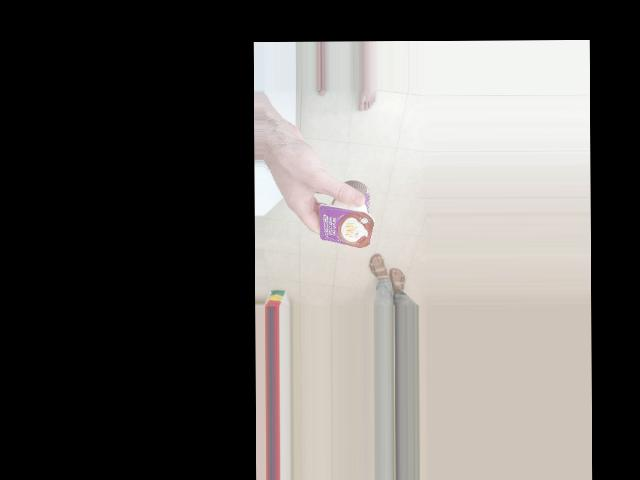milky: (312, 177, 375, 251)
